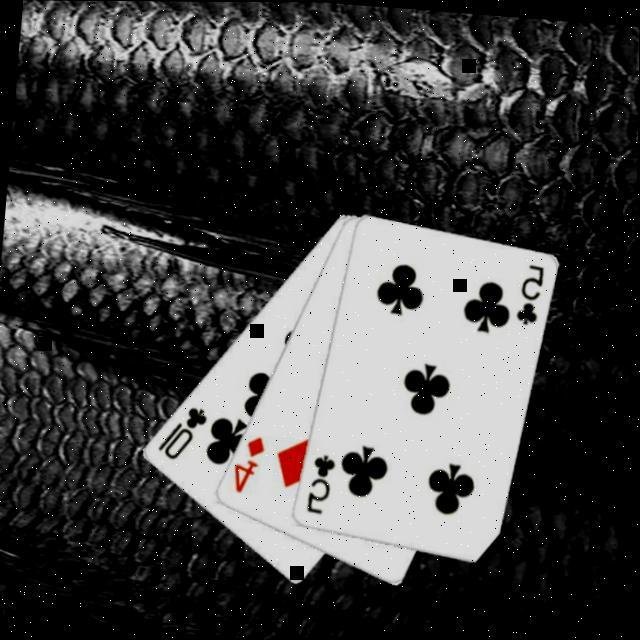10C: (154, 401, 212, 467)
4D: (230, 434, 269, 498)
5C: (512, 262, 548, 330), (304, 452, 340, 519)
